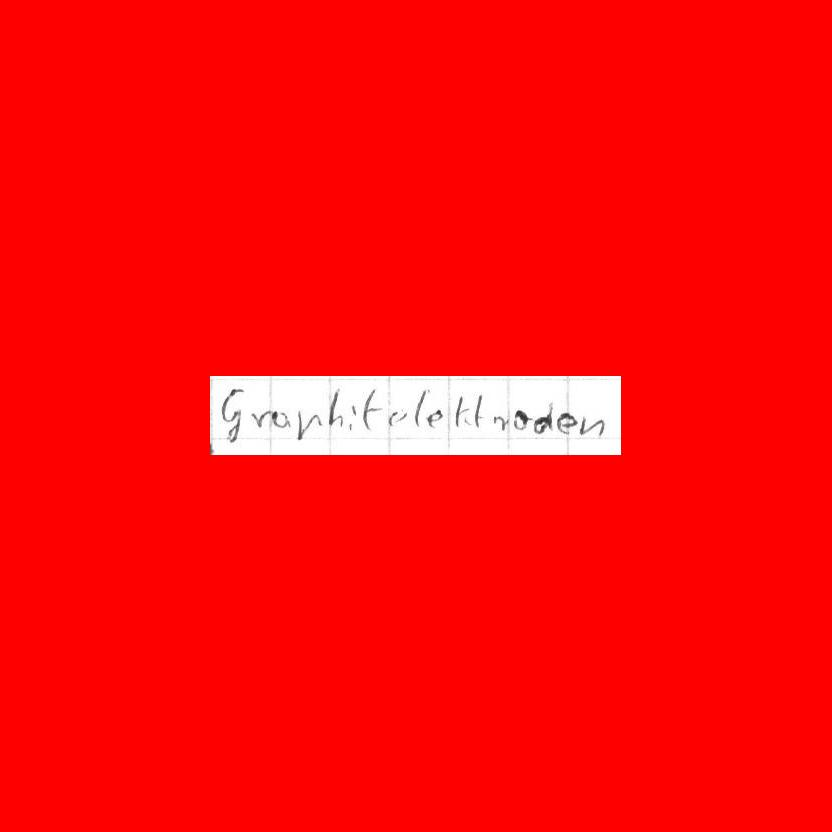Char: (222, 386, 246, 441), (294, 405, 321, 443), (361, 387, 381, 431), (327, 385, 345, 431), (576, 413, 604, 436), (413, 389, 430, 426), (469, 391, 486, 426), (532, 410, 552, 436), (455, 393, 469, 427), (250, 409, 271, 431), (556, 410, 576, 433), (271, 409, 290, 433), (512, 408, 529, 432), (386, 407, 407, 426), (425, 407, 443, 429), (346, 405, 360, 430), (491, 412, 508, 432)
